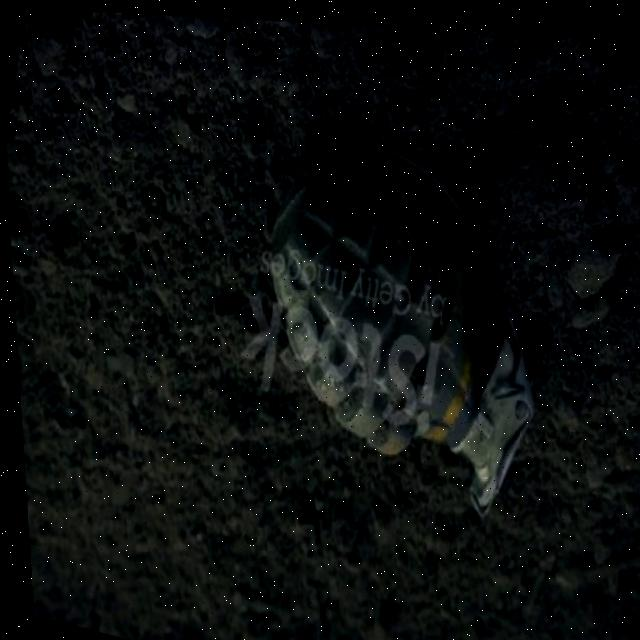grenade: (207, 99, 584, 523)
